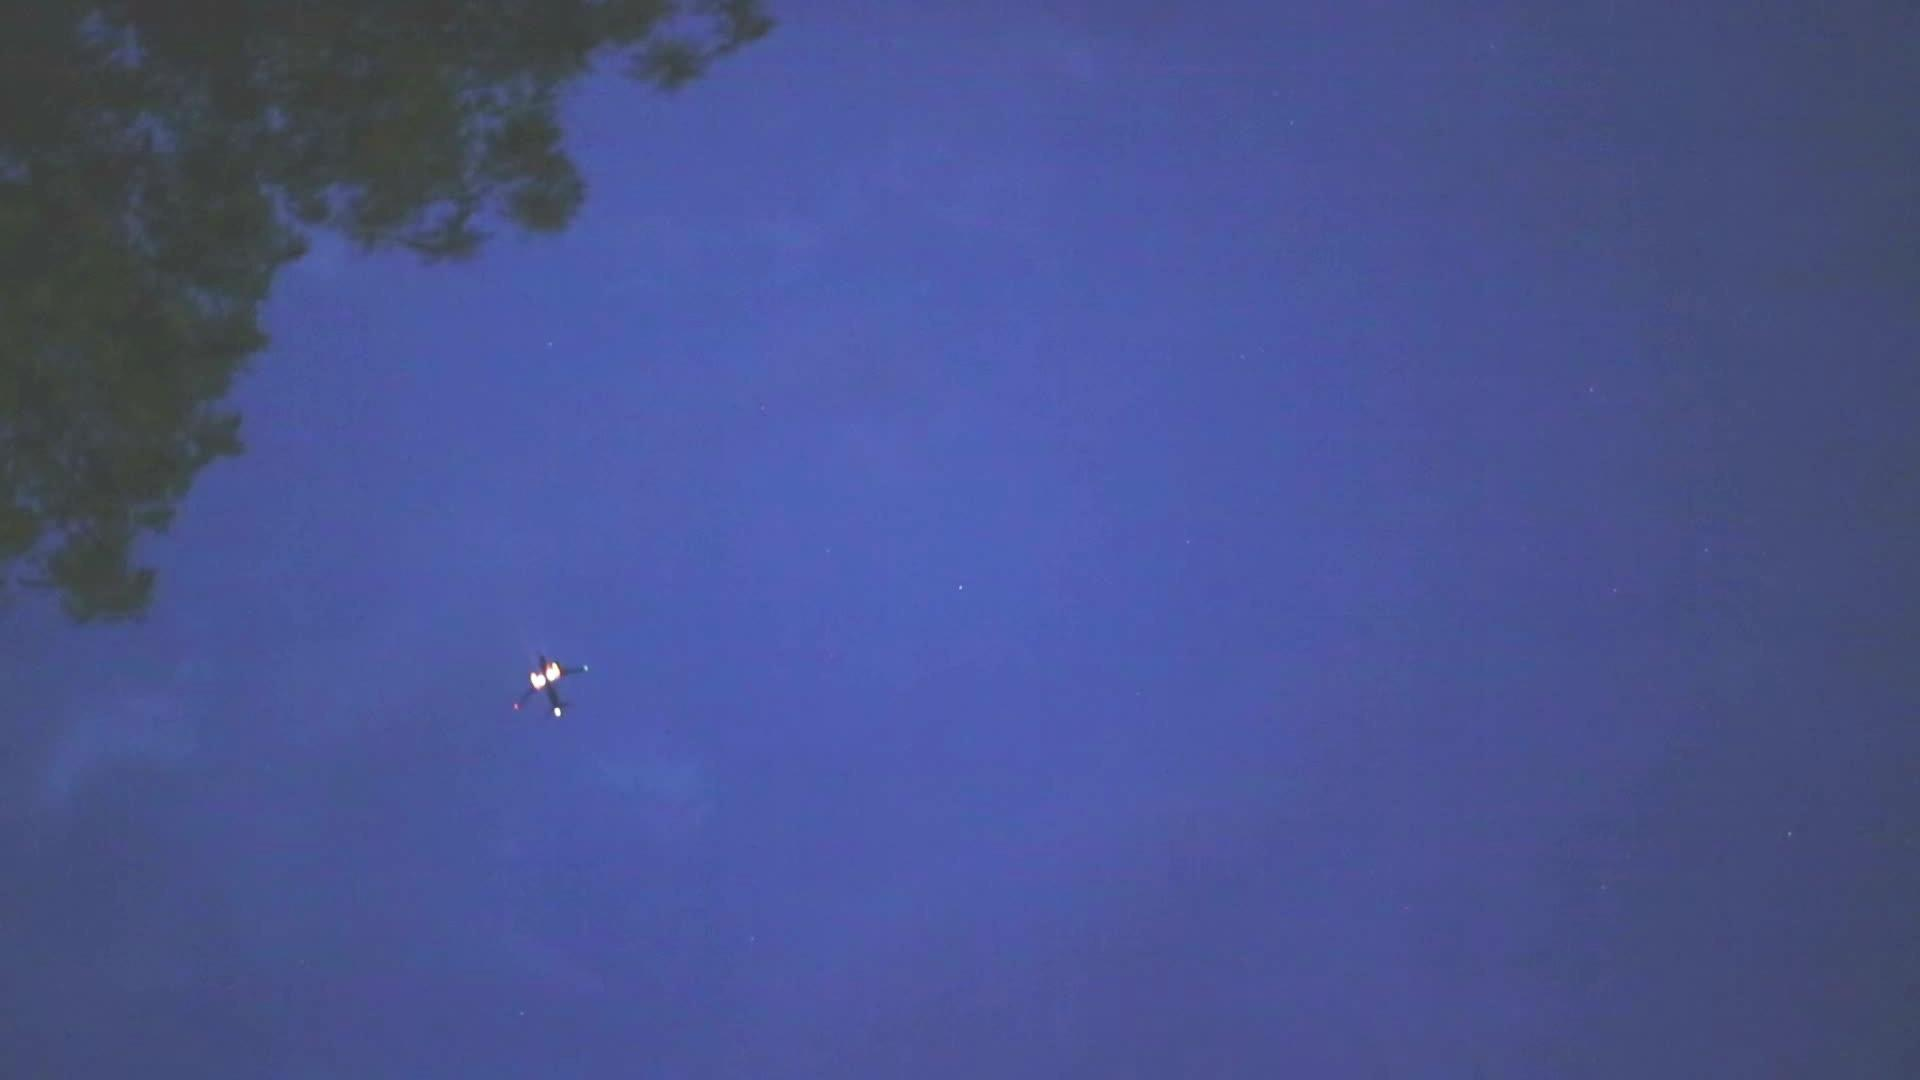Plane: (468, 637, 625, 733)
